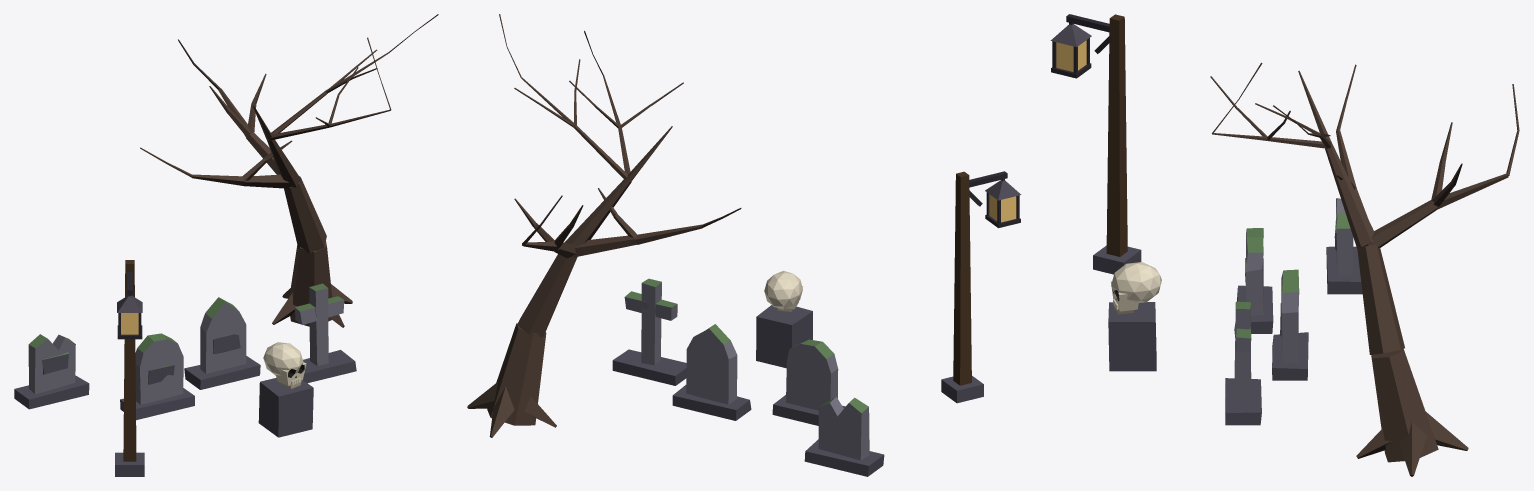
Rendered from sample_scene.fbx.
The picture shows the model from 3 angles, left to right: view 1: azimuth 30°, elevation 25°; view 2: azimuth 150°, elevation 25°; view 3: azimuth 270°, elevation 25°; orthographic projection. The views are drawn at different scales.
Parts seen in each view (by area): view 1: Tree, Grave_Gothic, Grave_Round, Grave_Broken, Lantern, Grave_Cross, Pedestal, Skull; view 2: Tree, Lantern, Grave_Gothic, Grave_Broken, Grave_Cross, Grave_Round, Pedestal, Skull; view 3: Tree, Lantern, Pedestal, Grave_Cross, Grave_Gothic, Grave_Round, Grave_Broken, Skull.
Part boxes in pixels (x1,y1,x2,y2): Tree: (140, 14, 438, 327); Grave_Gothic: (184, 297, 260, 389); Grave_Round: (120, 333, 194, 420); Grave_Broken: (14, 334, 89, 409); Lantern: (115, 260, 144, 476); Grave_Cross: (295, 283, 356, 383); Pedestal: (258, 378, 313, 437); Skull: (263, 342, 306, 388); Tree: (467, 14, 741, 437); Lantern: (941, 171, 1021, 403); Grave_Gothic: (672, 324, 751, 420); Grave_Broken: (804, 396, 884, 476); Grave_Cross: (612, 278, 686, 385); Grave_Round: (772, 339, 845, 425); Pedestal: (756, 305, 812, 368); Skull: (764, 270, 802, 311); Tree: (1210, 62, 1519, 476); Lantern: (1050, 14, 1141, 274); Pedestal: (1108, 302, 1156, 371); Grave_Cross: (1225, 301, 1261, 425); Grave_Gothic: (1272, 269, 1308, 380); Grave_Round: (1237, 228, 1273, 333); Grave_Broken: (1326, 198, 1362, 294); Skull: (1111, 262, 1161, 314).
Size of the model in its own units: 14.35 by 11.05 by 11.94.
